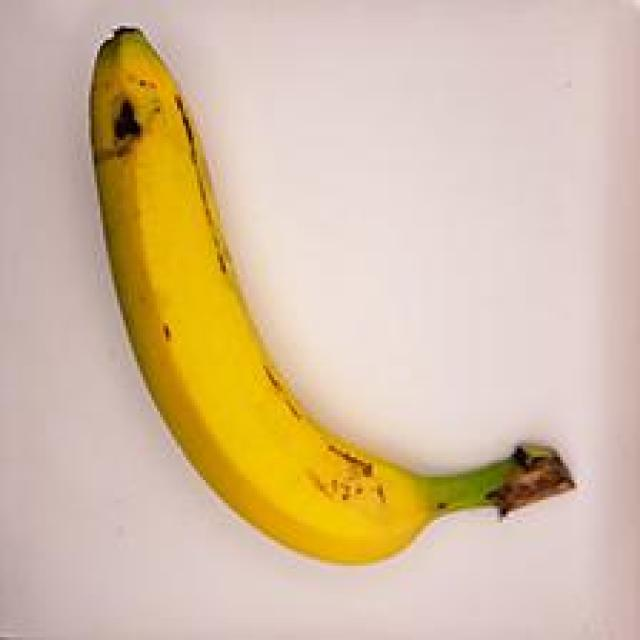ripe: (47, 15, 585, 569)
